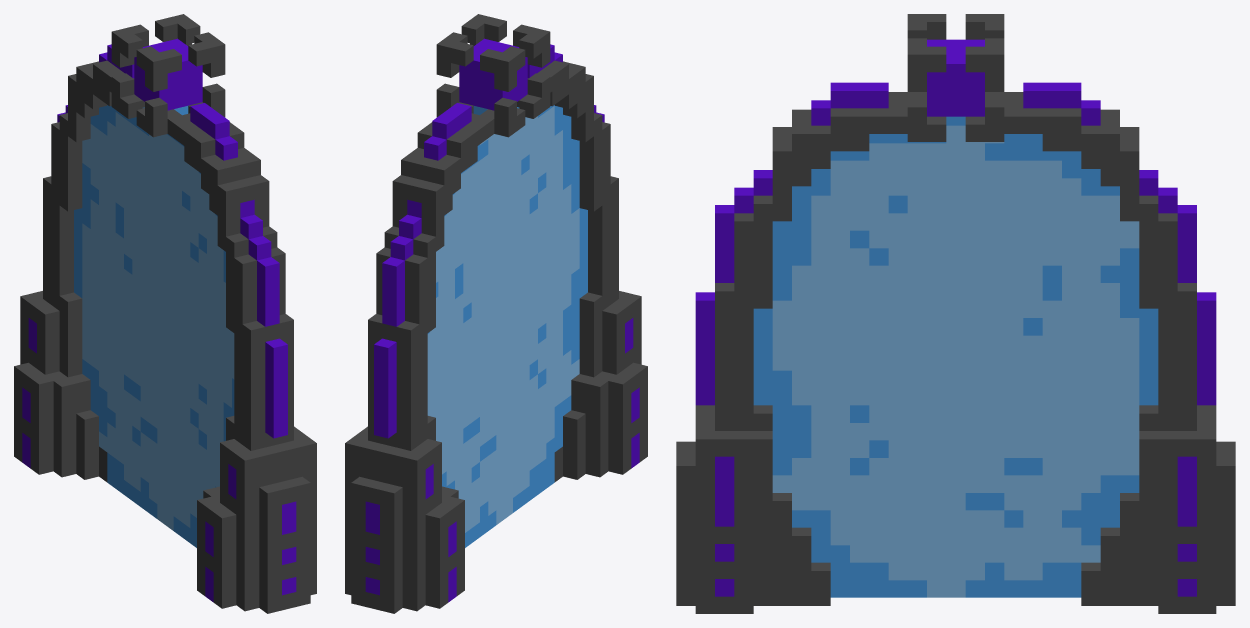
The model's file is Portal.fbx.
3 views of the same model, side by side, from view 1: azimuth 30°, elevation 25°; view 2: azimuth 150°, elevation 25°; view 3: azimuth 270°, elevation 25° (orthographic). The views are drawn at different scales.
Parts seen in each view (by area): view 1: Mesh; view 2: Mesh; view 3: Mesh.
Part boxes in pixels (x1,y1,x2,y2): Mesh: [14, 14, 316, 613]; Mesh: [345, 14, 647, 613]; Mesh: [676, 14, 1235, 613].
Size of the model in its own units: 15 by 80 by 72.5.
1 material, 1 textured.
